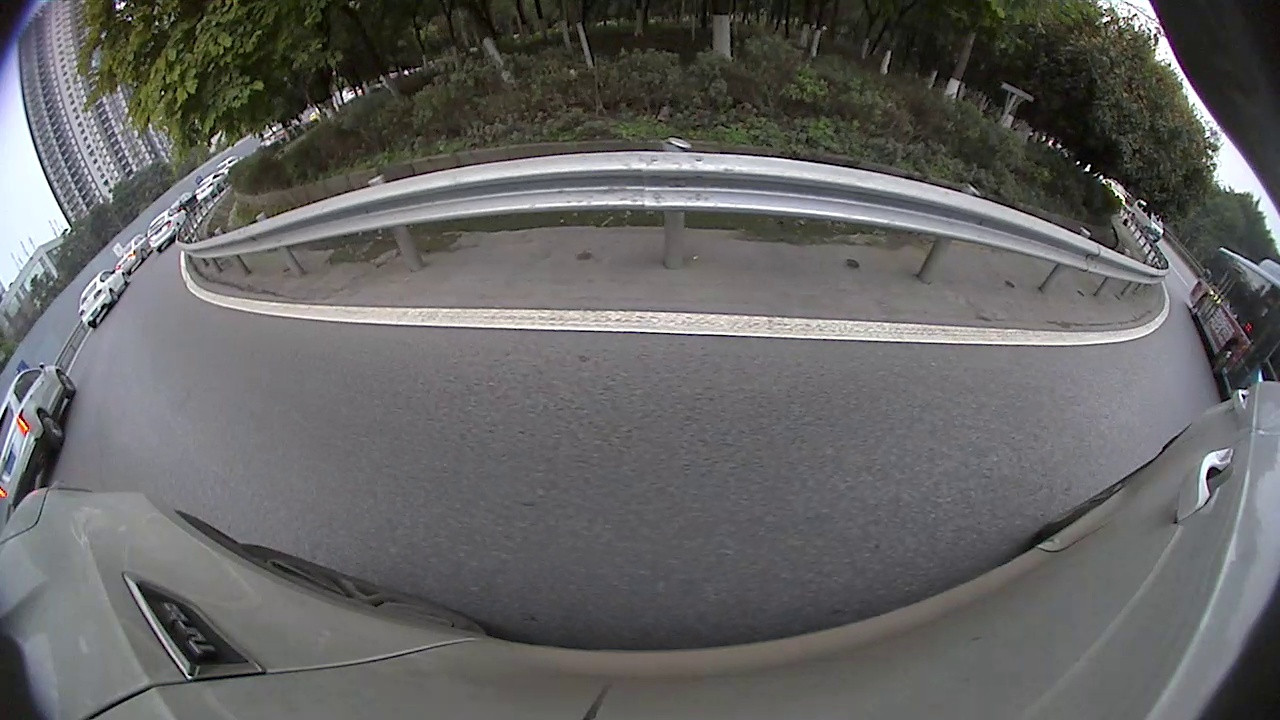car: (599, 37, 843, 159), (1051, 218, 1130, 301), (1212, 437, 1272, 537), (1156, 318, 1210, 390), (53, 261, 113, 317)
front: (790, 119, 829, 159), (1113, 288, 1126, 303)
rear: (635, 89, 685, 143), (1212, 465, 1234, 483), (1095, 274, 1110, 296)
